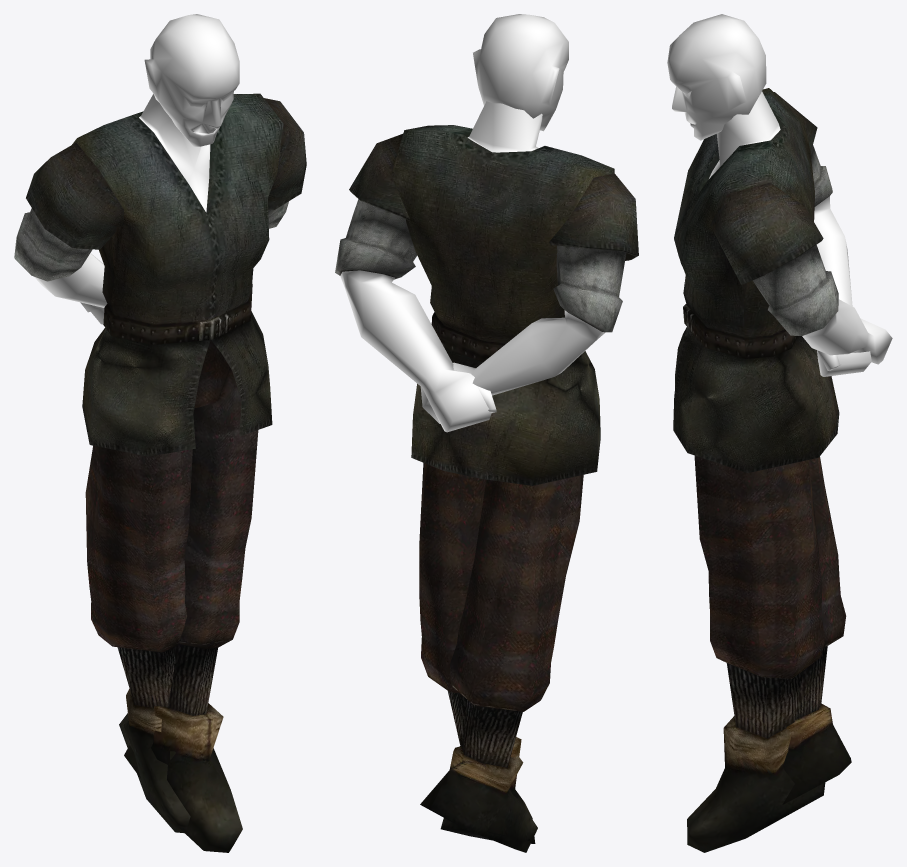
The model's file is SQ123_SVEN_CORPSE.glb.
3 renders of one model, left to right at view 1: azimuth 30°, elevation 25°; view 2: azimuth 150°, elevation 25°; view 3: azimuth 270°, elevation 25°, orthographic. The views are drawn at different scales.
Parts seen in each view (by area): view 1: Mesh; view 2: Mesh; view 3: Mesh.
Boxes of the visible parts, <box> form: Mesh: <box>14,14,306,852</box>; Mesh: <box>335,14,638,852</box>; Mesh: <box>667,14,892,852</box>.
Size of the model in its own units: 0.6604 by 1.95 by 0.4873.
3 materials, 1 textured.
